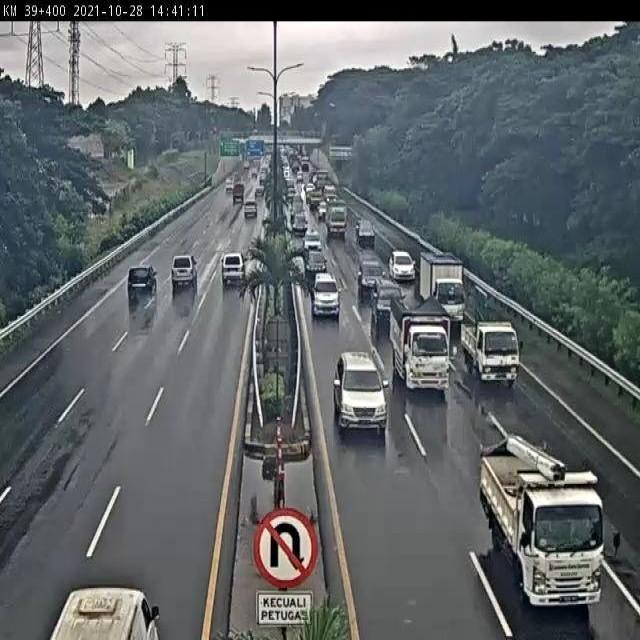car: (332, 352, 388, 433), (309, 269, 341, 319), (370, 276, 404, 323), (356, 257, 386, 295), (388, 249, 416, 280)
mid truck: (478, 442, 604, 610), (389, 295, 451, 396), (460, 312, 520, 384), (421, 255, 467, 322), (125, 264, 159, 301), (169, 253, 199, 287), (221, 252, 247, 285)
